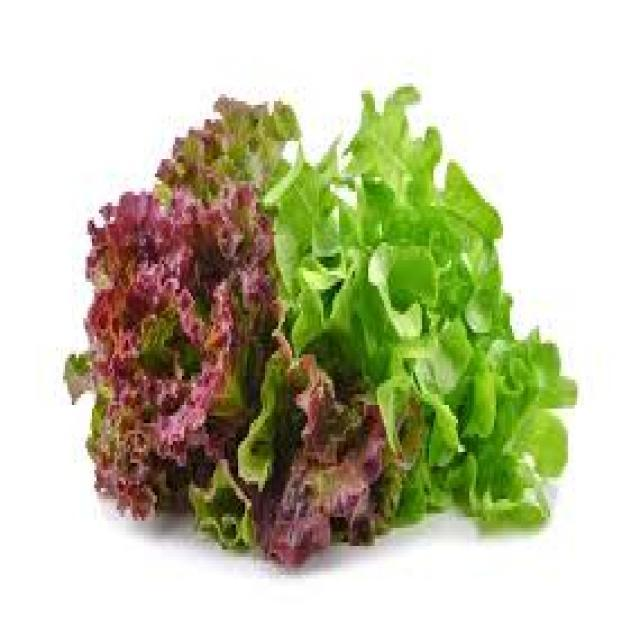Lettuce: (77, 79, 573, 574)
